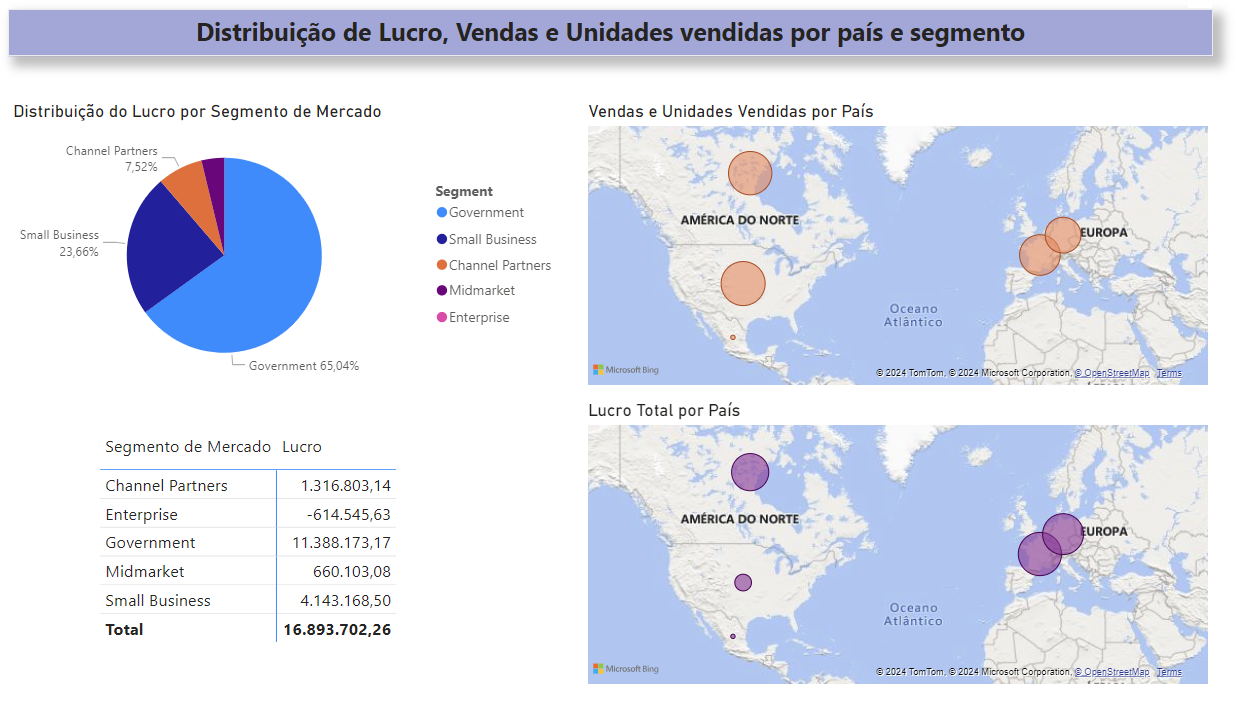

This screenshot's page, from the dashboard's own definition file:
{"tool":"powerbi","page":{"name":"Página 3","canvas":[1280,720],"ordinal":2},"visuals":[{"type":"textbox","box":[58.4,29.2,1172,45.7],"z":0},{"type":"map","title":"Vendas e Unidades Vendidas por País","fields":{"Category":["financials.Country"],"Size":["Sum(financials. Sales)"]},"box":[617.6,118.7,612.8,281.1],"z":1000},{"type":"map","title":"Lucro Total por País","fields":{"Category":["financials.Country"],"Size":["Sum(financials.Profit)"]},"box":[617.6,409.5,612.8,281.1],"z":2000},{"type":"pieChart","title":"Distribuição do Lucro por Segmento de Mercado","fields":{"Category":["financials.Segment"],"Y":["Sum(financials.Profit)"]},"box":[58.4,118.7,542.7,281.1],"z":3000},{"type":"pivotTable","fields":{"Values":["Sum(financials.Profit)"],"Rows":["financials.Segment"]},"box":[143,434.8,410.5,230.5],"z":4000}]}

Visuals, with their boxes in screenshot pixels (x1, y1, x2, y2), scaled from the page's 1280x720 canvas onto the 1236x703 screenshot:
textbox: bbox=[56, 29, 1188, 73]
"Vendas e Unidades Vendidas por País" map: bbox=[596, 116, 1188, 390]
"Lucro Total por País" map: bbox=[596, 400, 1188, 674]
"Distribuição do Lucro por Segmento de Mercado" pieChart: bbox=[56, 116, 580, 390]
pivotTable - Sum(financials.Profit) x financials.Segment: bbox=[138, 425, 534, 650]
